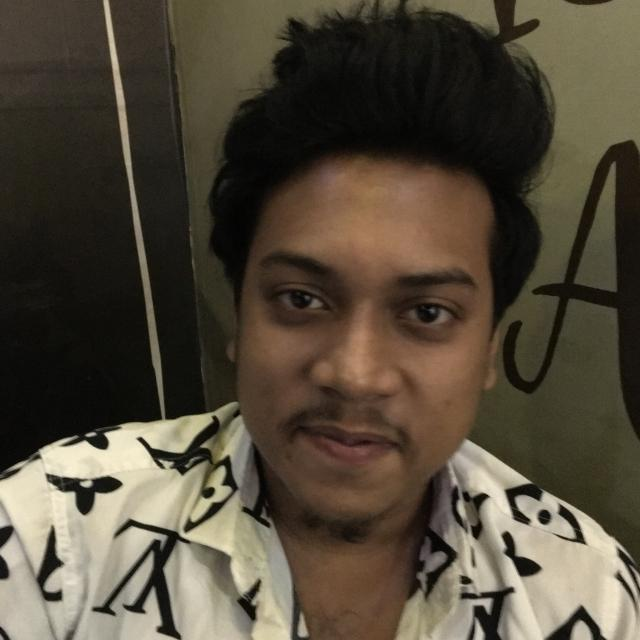Happy: (185, 176, 564, 560)
